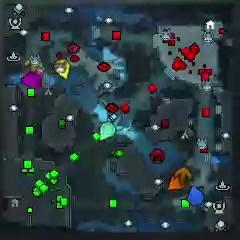p1: (186, 186, 205, 206)
p2: (100, 122, 115, 140)
p3: (21, 72, 43, 91)
p4: (54, 58, 71, 80)
p5: (168, 174, 185, 190)
x2: (24, 58, 44, 73)
x3: (108, 114, 124, 131)
x5: (174, 167, 192, 186)
